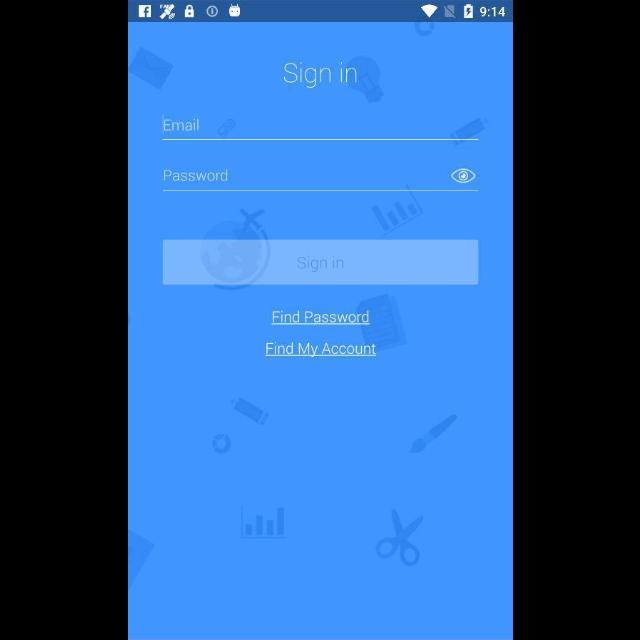icon: (450, 168, 474, 184)
input: (162, 168, 478, 192), (162, 118, 478, 140)
text: (283, 62, 357, 90), (264, 342, 376, 358), (270, 310, 370, 326), (163, 170, 227, 182), (164, 118, 198, 132)
textbutton: (162, 240, 478, 286)
uppertaskbar: (128, 1, 512, 23)
